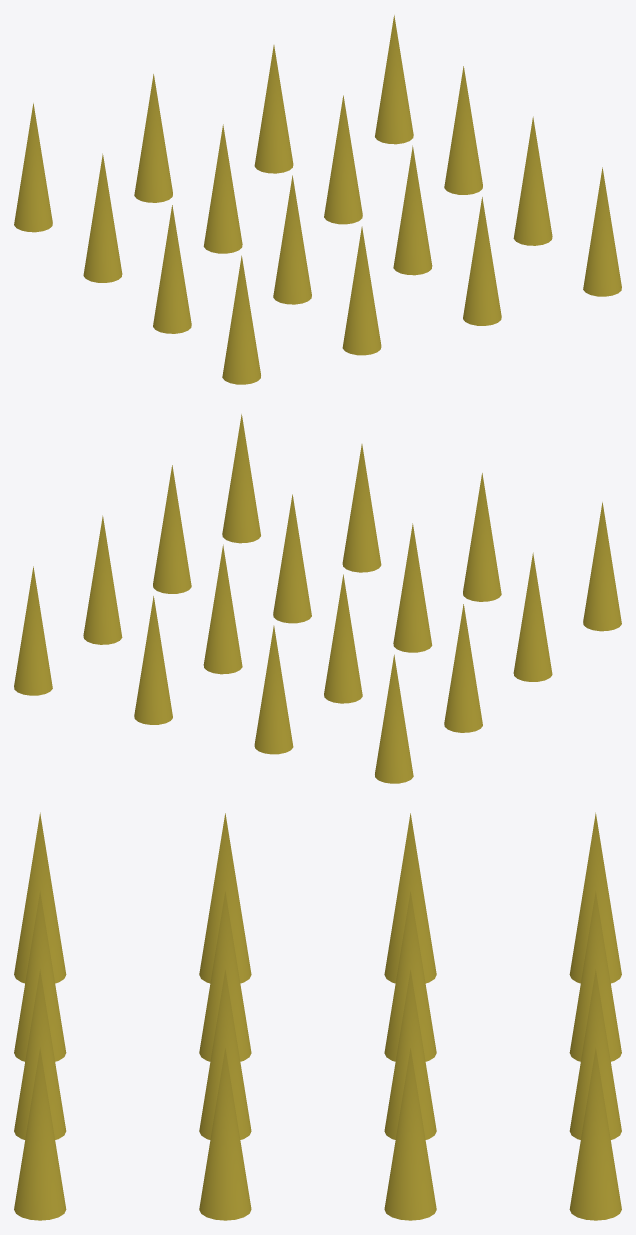
Rendered from Desert_Trap Corn.fbx.
3 views of the same model, one above another, from view 1: azimuth 30°, elevation 25°; view 2: azimuth 150°, elevation 25°; view 3: azimuth 270°, elevation 25° (orthographic). The views are drawn at different scales.
Parts seen in each view (by area): view 1: Cone.003; view 2: Cone.003; view 3: Cone.003.
Part boxes in pixels (box(x1,y1,x2,y2)): Cone.003: box(14, 15, 621, 384); Cone.003: box(14, 414, 621, 783); Cone.003: box(14, 812, 621, 1220).
Bounding box in the file's own units: 68.18 × 20.1 × 68.18.
1 material, 1 textured.
